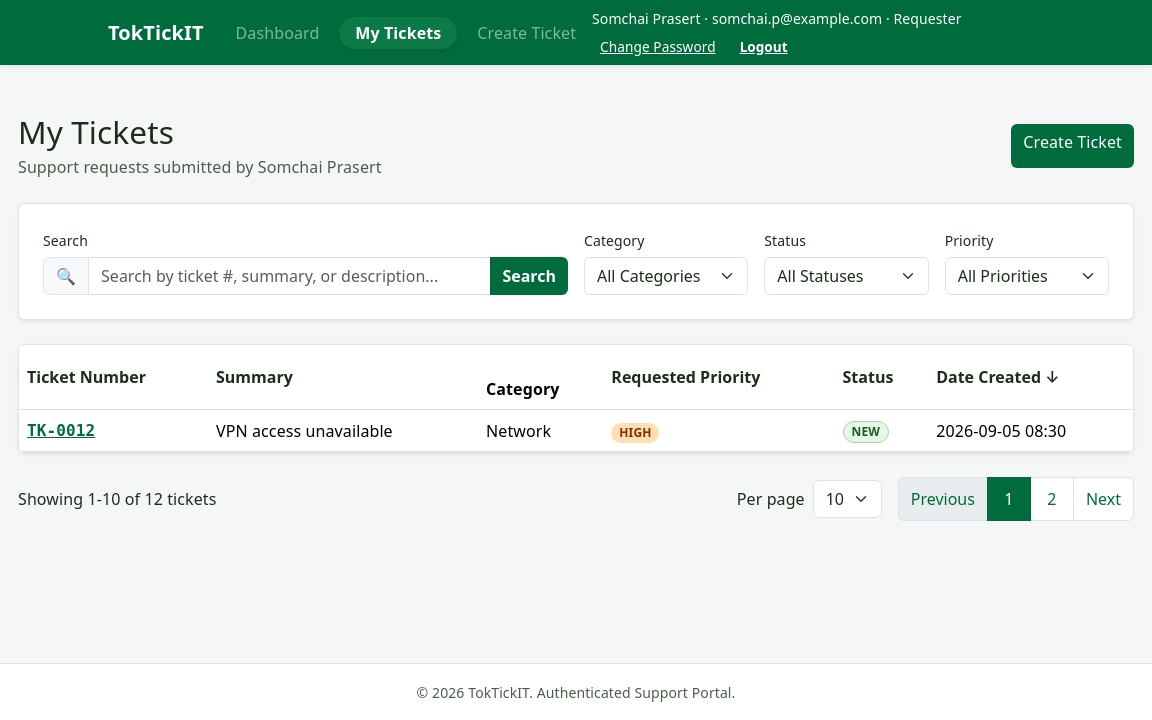
Scenario: My Tickets screen › sends search and filters to the API and clears them back to defaults
In the field labelled "Search": (290, 276) [88,257,491,295], type "vpn"
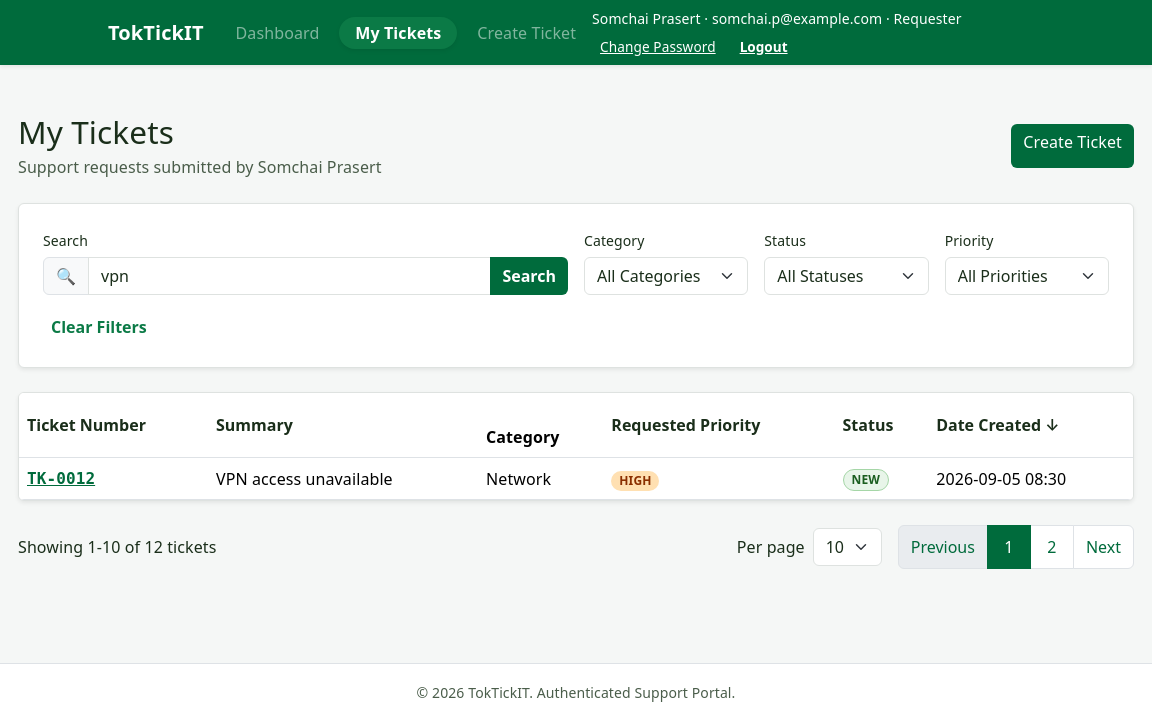
Submit the form, box [35,212,1117,295]
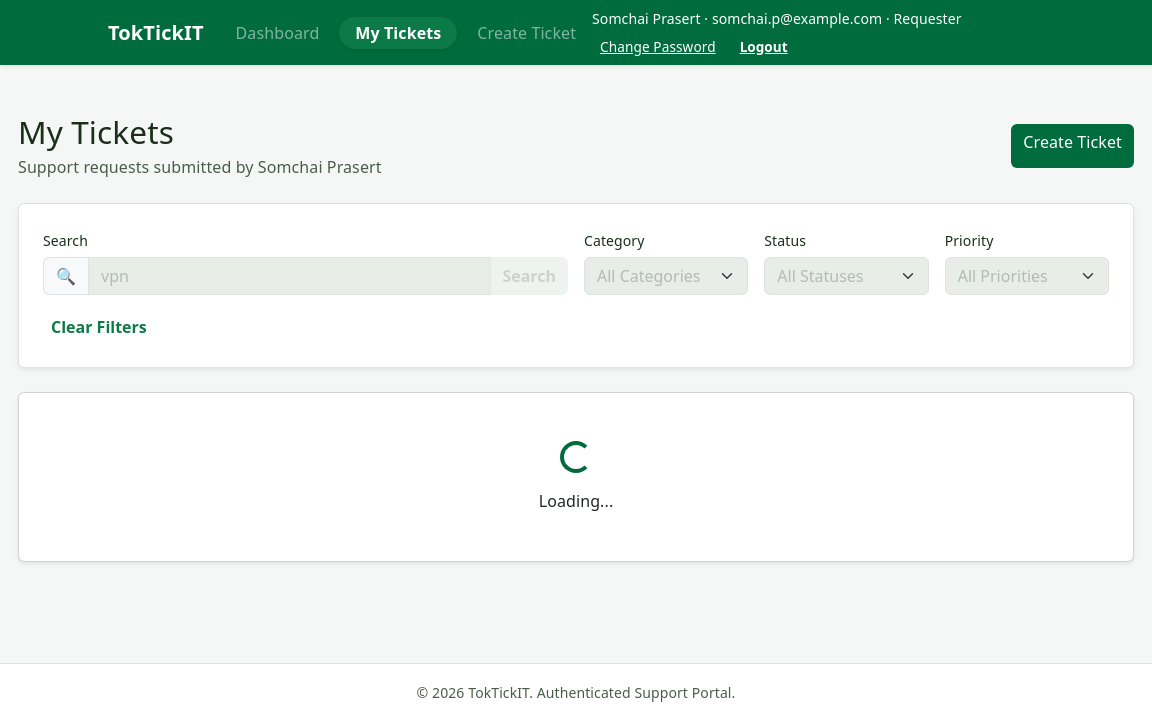
Select "Network" in the dropdown labelled "Category": (666, 276) [584,257,748,295]
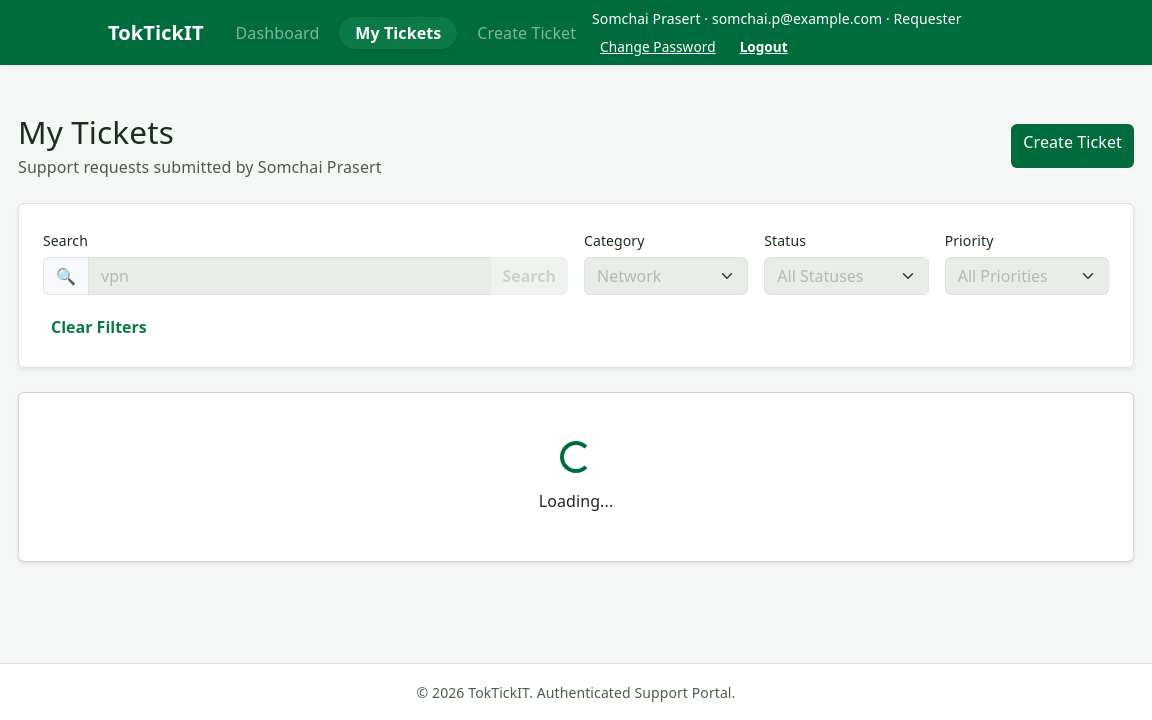
Select "NEW" in the dropdown labelled "Status": (846, 276) [764,257,929,295]
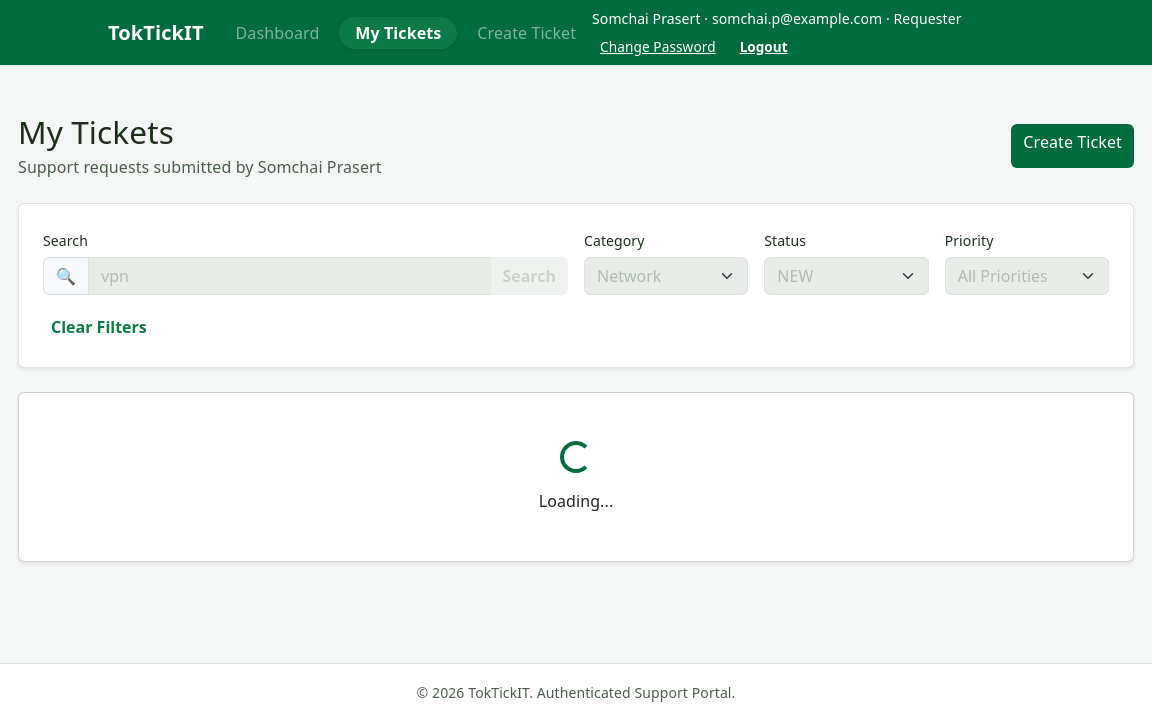
Select "HIGH" in the dropdown labelled "Priority": (1027, 276) [945,257,1109,295]
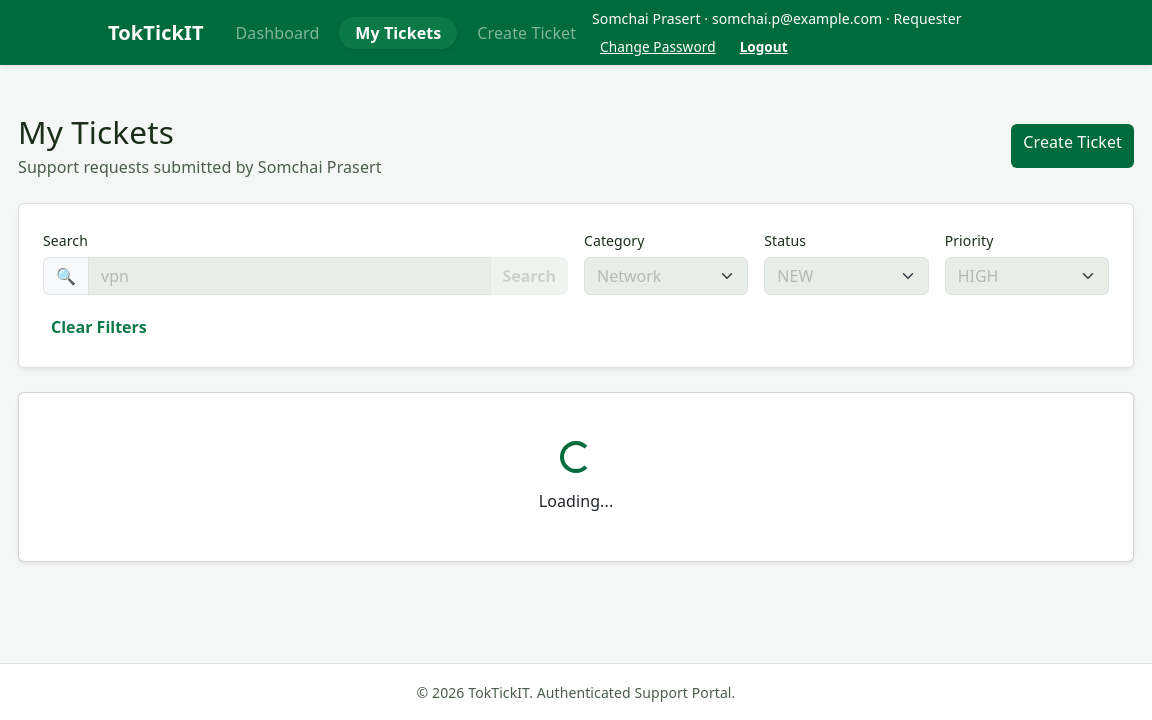
Click the button "Clear Filters": (99, 327) [43,311,155,343]
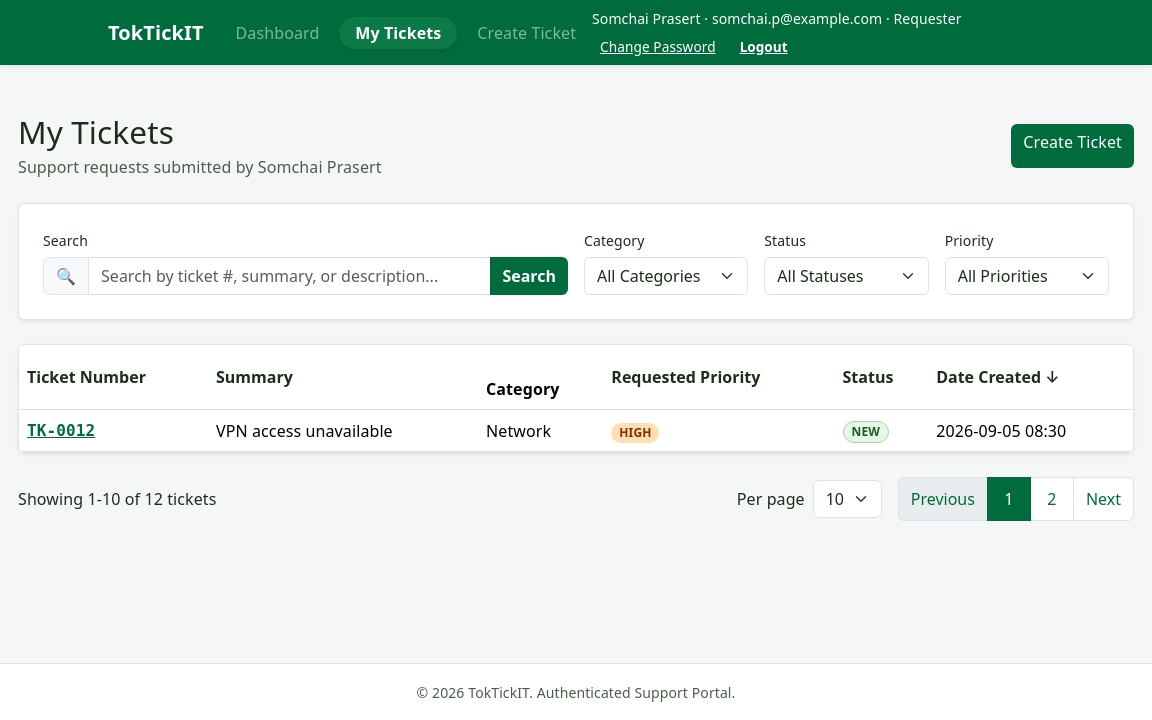
Expected: the button "Clear Filters" is gone
